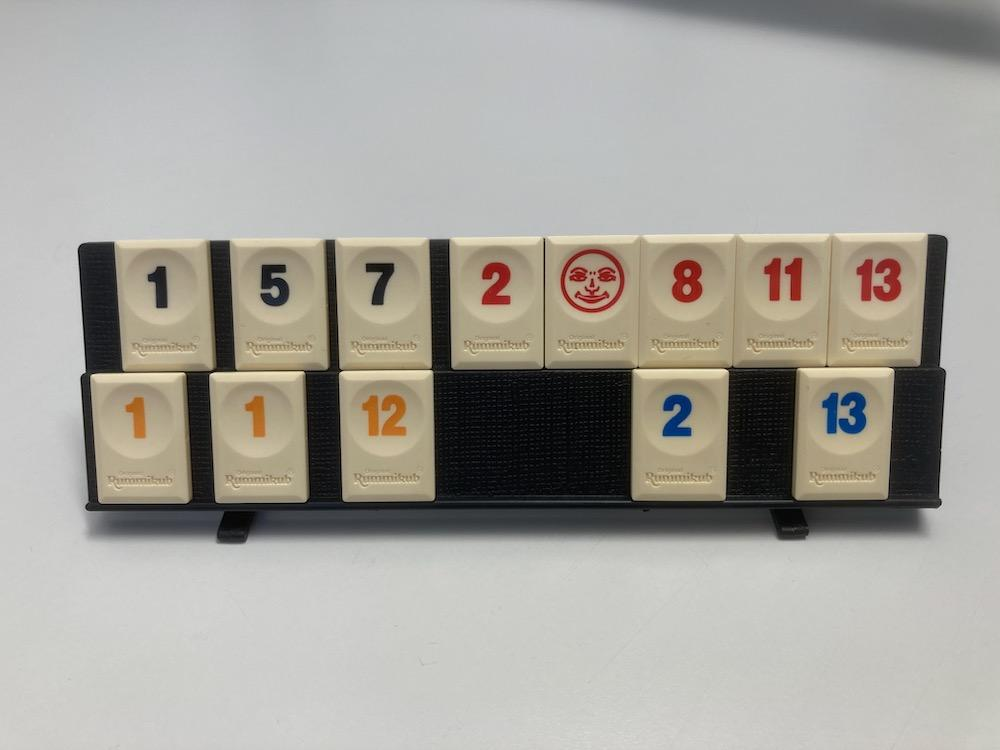black_1: (116, 242, 215, 370)
black_5: (231, 240, 330, 369)
black_7: (336, 241, 433, 371)
blue_13: (795, 367, 895, 500)
blue_2: (631, 372, 729, 502)
joker: (545, 236, 637, 367)
orange_1: (209, 373, 309, 504), (91, 374, 189, 502)
orange_12: (342, 371, 436, 502)
red_11: (734, 234, 829, 367)
red_13: (828, 234, 928, 367)
red_2: (451, 238, 543, 369)
red_8: (639, 237, 736, 367)
